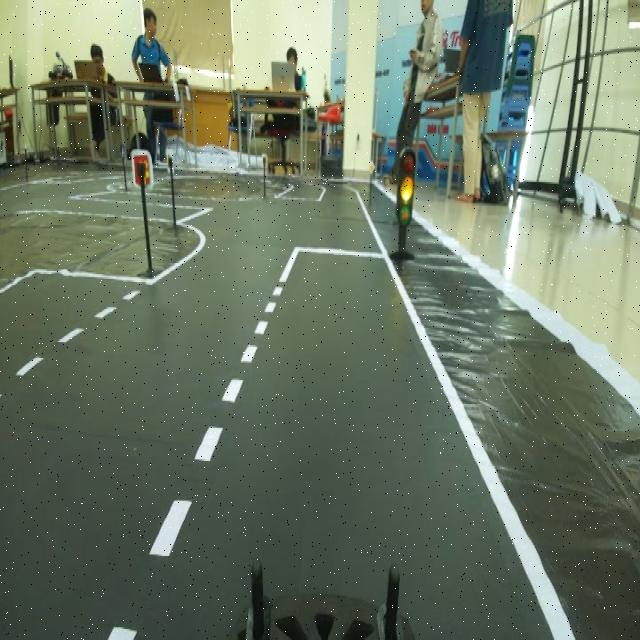trafficlight: (384, 134, 419, 276)
